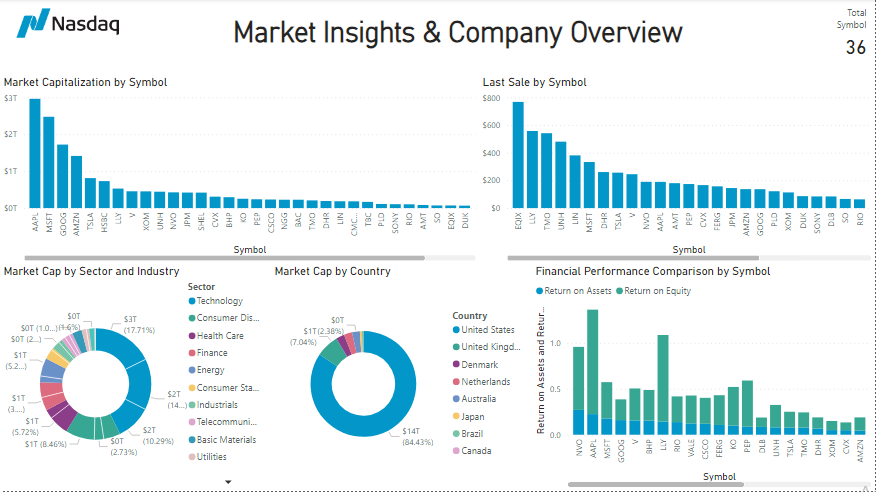

This screenshot's page, from the dashboard's own definition file:
{"tool":"powerbi","page":{"name":"Overall Stock Analysis","canvas":[1280,720],"ordinal":0},"visuals":[{"type":"clusteredColumnChart","title":"Market Capitalization by Symbol","fields":{"Category":["nasdaq_screener_filtered_cleaned.Symbol"],"Y":["Sum(nasdaq_screener_filtered_cleaned.Market Cap)"]},"box":[0,110.7,701.2,276.8],"z":0},{"type":"clusteredColumnChart","fields":{"Y":["Sum(nasdaq_screener_filtered_cleaned.Last Sale)"],"Category":["nasdaq_screener_filtered_cleaned.Symbol"]},"box":[701.2,110.7,578.8,276.8],"z":1000},{"type":"donutChart","title":"Market Cap by Sector and Industry","fields":{"Y":["Sum(nasdaq_screener_filtered_cleaned.Market Cap)"],"Category":["nasdaq_screener_filtered_cleaned.Sector","nasdaq_screener_filtered_cleaned.Industry"],"Series":["nasdaq_screener_filtered_cleaned.Sector"]},"box":[0,387.5,395.9,332.2],"z":2000},{"type":"donutChart","title":"Market Cap by Country","fields":{"Y":["Sum(nasdaq_screener_filtered_cleaned.Market Cap)"],"Category":["nasdaq_screener_filtered_cleaned.Country"]},"box":[395.9,387.5,382.5,332.2],"z":3000},{"type":"columnChart","title":"Financial Performance Comparison by Symbol","fields":{"Y":["nasdaq_screener_filtered_cleaned.Return on Assets1","nasdaq_screener_filtered_cleaned.Return on Equity1"],"Category":["nasdaq_screener_filtered_cleaned.Symbol"]},"box":[778.4,387.5,501.6,332.2],"z":4000},{"type":"cardVisual","fields":{"Data":["nasdaq_screener_filtered_cleaned.Total Symbol"]},"box":[1197.8,0,82.2,110.7],"z":5000},{"type":"image","box":[0,8.3,198.3,53.3],"z":6000},{"type":"textbox","box":[326,18,688,70],"z":7000}]}

Visuals, with their boxes in screenshot pixels (x1, y1, x2, y2), scaled from the page's 1280x720 canvas onto the 876x492 screenshot:
"Market Capitalization by Symbol" clusteredColumnChart: (0, 76, 480, 265)
clusteredColumnChart - Sum(nasdaq_screener_filtered_cleaned.Last Sale) x nasdaq_screener_filtered_cleaned.Symbol: (480, 76, 875, 265)
"Market Cap by Sector and Industry" donutChart: (0, 265, 271, 491)
"Market Cap by Country" donutChart: (271, 265, 533, 491)
"Financial Performance Comparison by Symbol" columnChart: (533, 265, 875, 491)
cardVisual - nasdaq_screener_filtered_cleaned.Total Symbol: (820, 0, 875, 76)
image: (0, 6, 136, 42)
textbox: (223, 12, 694, 60)
